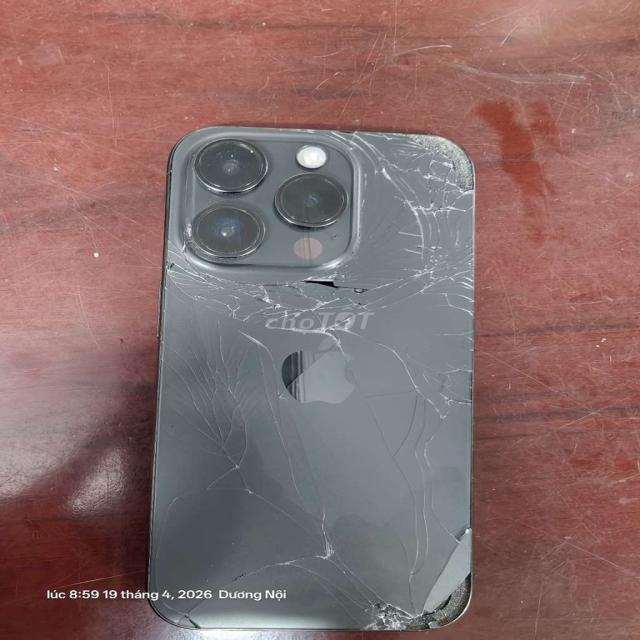gen_14: (135, 114, 497, 637)
physical_damage: (285, 314, 425, 393), (155, 250, 279, 319), (398, 222, 483, 318), (308, 544, 402, 628), (232, 468, 321, 551), (142, 421, 236, 496), (226, 412, 338, 472), (286, 258, 394, 318), (315, 112, 417, 174), (157, 366, 276, 418), (160, 320, 279, 362), (393, 398, 452, 481), (427, 323, 488, 403), (203, 556, 324, 596), (145, 494, 203, 571), (382, 483, 469, 533), (400, 580, 483, 632), (420, 129, 480, 196), (362, 170, 431, 227), (150, 596, 243, 638), (404, 536, 482, 578), (430, 192, 485, 240)
